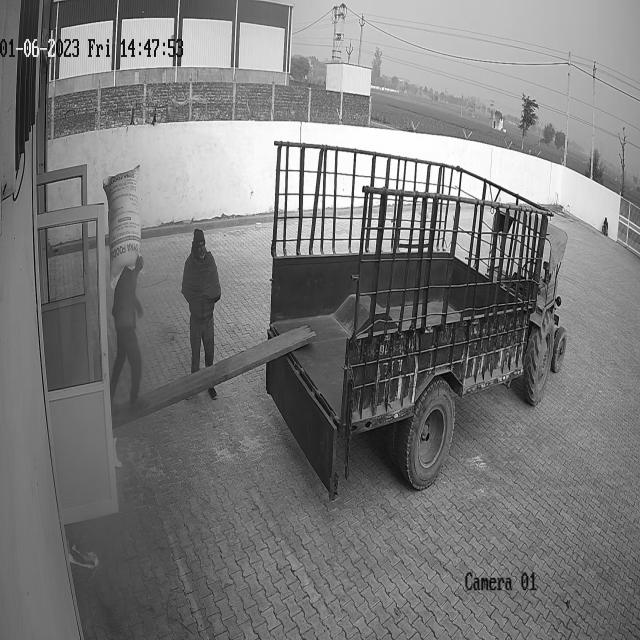sack: (101, 165, 142, 287)
